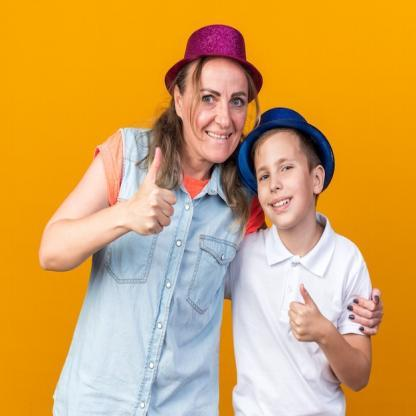thumb_up: (136, 146, 179, 242), (284, 280, 321, 346)
